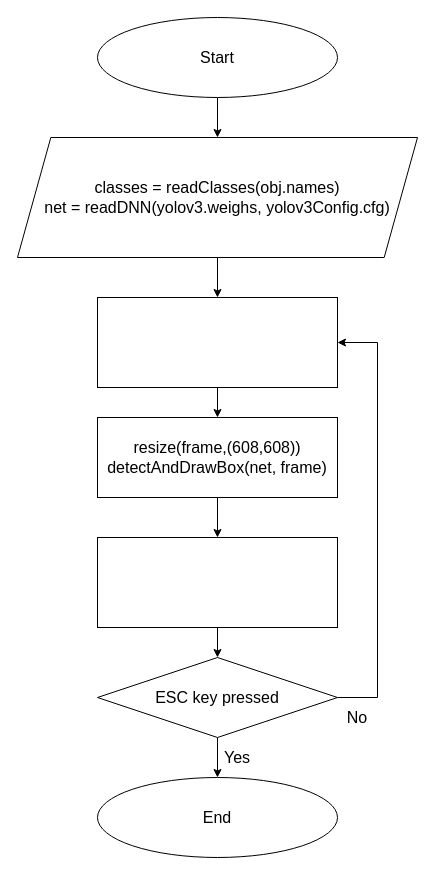
This 435x875 diagram has some shape labels left out. Here are the shapes that lost their labels. From the top down, the centre of each, then its label:
(217,342): ret, frame = readVideo(source)
(217,582): output(frame)
